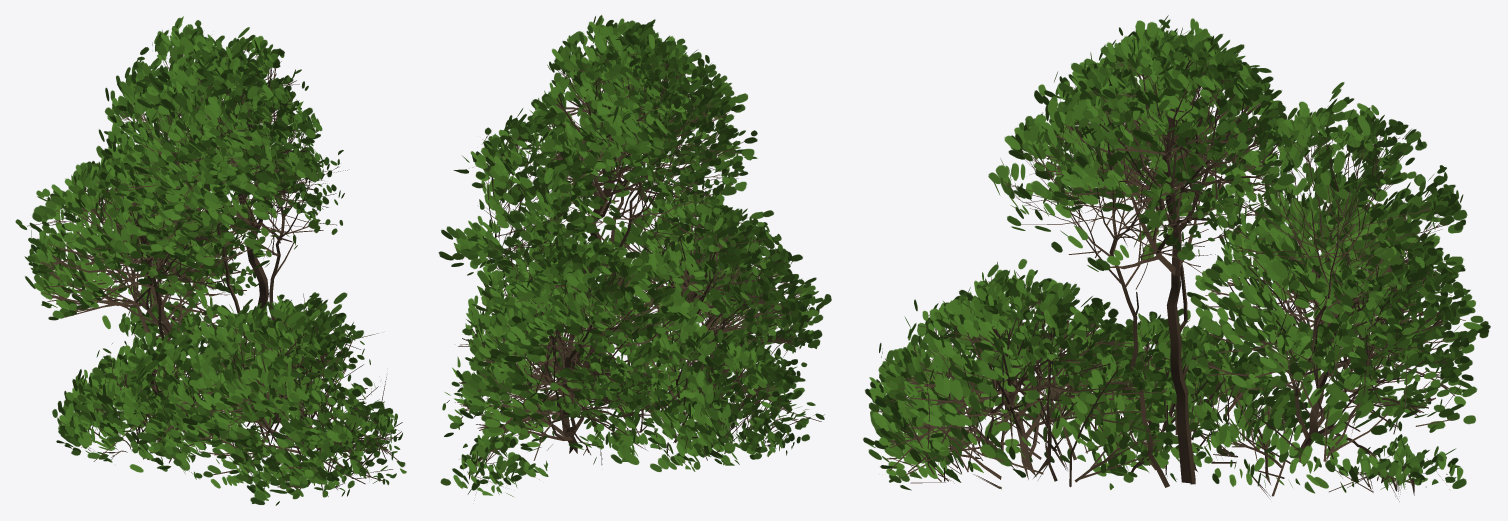
The picture shows the model from 3 angles, left to right: view 1: azimuth 30°, elevation 25°; view 2: azimuth 150°, elevation 25°; view 3: azimuth 270°, elevation 25°; orthographic projection. The views are drawn at different scales.
Visible parts, largest first — view 1: oak 01.001_trunk_Mat.001_0.467; view 2: oak 01.001_trunk_Mat.001_0.467; view 3: oak 01.001_trunk_Mat.001_0.467.
Boxes of the visible parts, x1,y1,x2,y2 form: oak 01.001_trunk_Mat.001_0.467: (15, 16, 406, 505); oak 01.001_trunk_Mat.001_0.467: (438, 15, 831, 500); oak 01.001_trunk_Mat.001_0.467: (863, 15, 1490, 501).
Size of the model in its own units: 2.28 by 3.38 by 4.23.
Materials: 2 (1 with a texture image).
